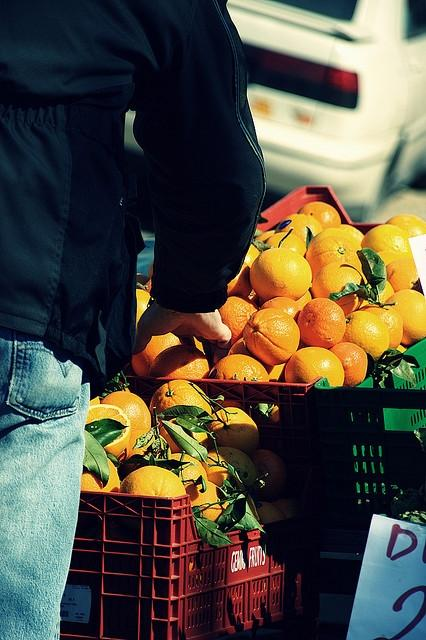orange: (250, 248, 312, 302), (244, 308, 300, 366), (149, 379, 212, 430), (311, 262, 365, 316), (305, 236, 366, 283), (338, 311, 390, 364), (118, 430, 172, 481), (206, 407, 259, 457), (200, 446, 258, 490), (85, 404, 132, 457), (298, 297, 346, 348), (285, 346, 345, 386), (385, 289, 426, 345), (131, 332, 182, 377), (118, 466, 186, 498), (356, 303, 403, 349), (148, 345, 211, 379), (100, 391, 151, 432), (159, 418, 208, 460), (184, 481, 234, 522), (249, 450, 290, 500), (218, 296, 258, 346), (327, 342, 368, 387), (360, 224, 414, 258), (228, 337, 274, 376), (274, 213, 324, 248), (208, 354, 270, 382), (228, 244, 260, 298), (386, 258, 424, 296), (81, 456, 120, 492), (296, 201, 341, 230), (308, 228, 362, 250), (260, 296, 302, 324), (264, 232, 307, 258), (259, 290, 312, 311), (171, 454, 208, 484), (360, 280, 394, 308), (386, 215, 426, 238), (266, 498, 300, 518), (257, 502, 287, 524), (136, 288, 150, 330), (336, 224, 364, 244), (377, 250, 406, 266), (255, 230, 276, 243), (136, 278, 152, 294), (194, 336, 206, 354), (296, 339, 310, 352), (116, 380, 130, 392), (269, 406, 279, 422), (396, 342, 408, 354), (249, 292, 259, 306), (148, 260, 154, 280), (308, 282, 313, 296)
